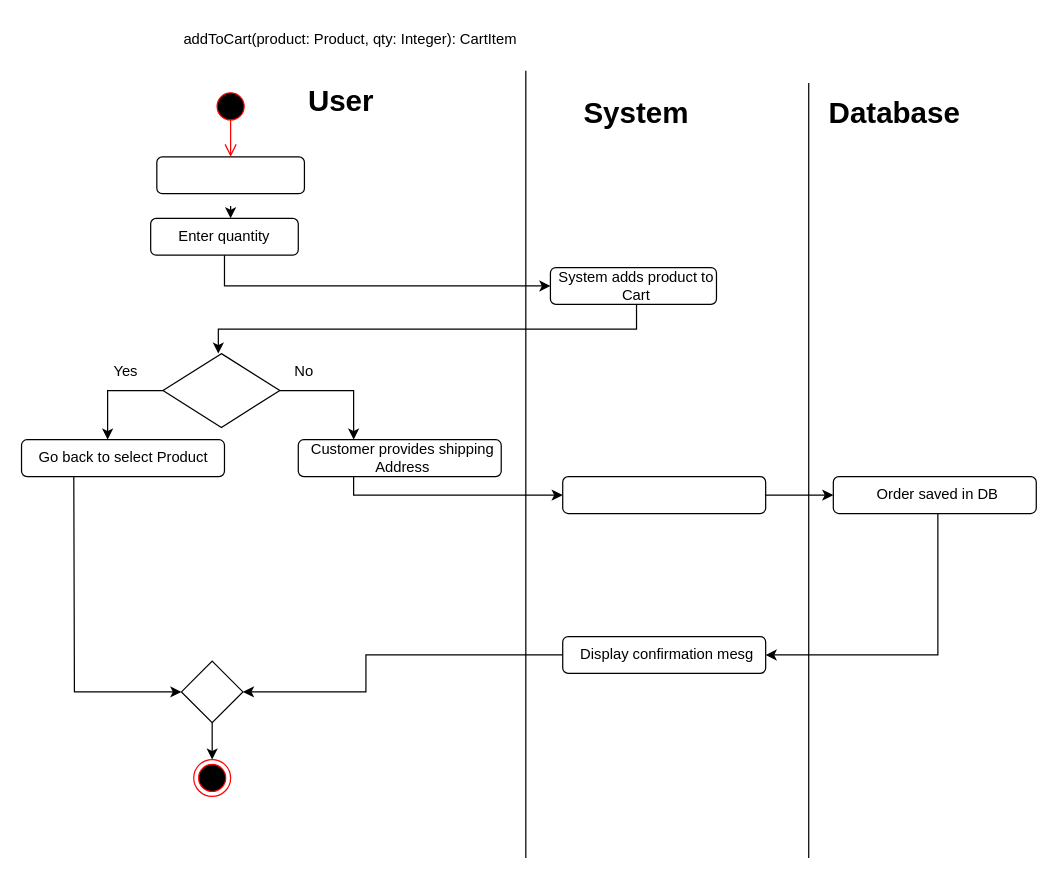
Image size: 1058x881. Some labels were removed from this diagram. The centre of each missing label's shape, as x and y in pixels:
"Continue shopping?" goes at (221,389).
"Customer selects a Product" goes at (230,175).
"System creates new Order" goes at (663,494).
